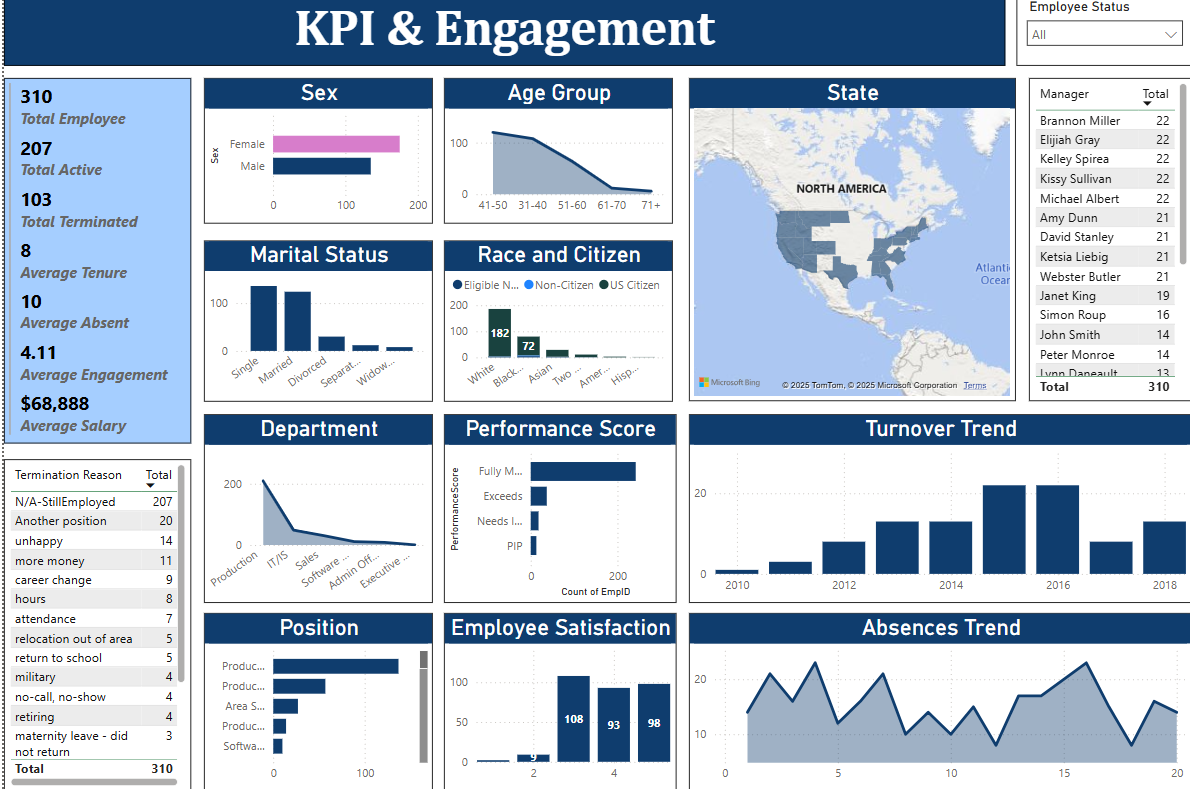

The dashboard page shown, as its layout file describes it:
{"tool":"powerbi","page":{"name":"KPI & Engagement","canvas":[1280,860],"ordinal":1},"visuals":[{"type":"textbox","box":[0,0,1078.3,78.3],"z":0},{"type":"areaChart","title":"Department","fields":{"Y":["HR_Data.EmpID"],"Category":["Department.Department_Name"]},"box":[215,453.3,246.7,203.3],"z":1000},{"type":"barChart","title":"Position","fields":{"Category":["Position.Positon Name"],"Y":["HR_Data.EmpID"]},"box":[215,668.3,246.7,191.7],"z":2000},{"type":"clusteredBarChart","title":"Performance Score","fields":{"Category":["HR_Data.PerformanceScore"],"Y":["HR_Data.EmpID"]},"box":[473.3,453.3,250,203.3],"z":3000},{"type":"areaChart","title":"Absences Trend","fields":{"Category":["HR_Data.Absences"],"Y":["HR_Data.EmpID"]},"box":[738.3,668.3,541.7,191.7],"z":4000},{"type":"columnChart","title":"Employee Satisfaction","fields":{"Y":["HR_Data.EmpID"],"Category":["HR_Data.EmpSatisfaction"]},"box":[473.3,668.3,250,191.7],"z":12000},{"type":"lineStackedColumnComboChart","title":"Turnover Trend","fields":{"Y":["HR_Data.EmpID"],"Category":["HR_Data.DateofTermination.Variation.Date Hierarchy.Year"]},"box":[738.3,453.3,541.7,203.3],"z":12001},{"type":"barChart","title":"Sex","fields":{"Category":["HR_Data.Sex"],"Y":["HR_Data.EmpID"]},"box":[215,91.7,246.7,156.7],"z":12002},{"type":"areaChart","title":"Age Group","fields":{"Category":["HR_Data.Age Group"],"Y":["HR_Data.EmpID"]},"box":[473.3,91.7,246.7,156.7],"z":12003},{"type":"columnChart","title":"Marital Status","fields":{"Category":["HR_Data.MaritalDesc"],"Y":["HR_Data.EmpID"]},"box":[215,266.7,246.7,173.3],"z":12004},{"type":"lineStackedColumnComboChart","title":"Race and Citizen","fields":{"Category":["HR_Data.RaceDesc"],"Y":["HR_Data.EmpID"],"Series":["HR_Data.CitizenDesc"]},"box":[473.3,266.7,246.7,173.3],"z":12005},{"type":"filledMap","title":"State","fields":{"Category":["HR_Data.State"]},"box":[738.3,91.7,351.7,348.3],"z":12006},{"type":"slicer","fields":{"Values":["HR_Data.EmploymentStatus"]},"box":[1090,0,190,78.6],"z":12007},{"type":"multiRowCard","fields":{"Values":["Measure.Number of Employee","Measure.TotalActive","Measure.TotalTerminated","Measure.AverageTenure","Measure.AverageAbsent","Measure.AverageEngagement","Measure.AverageSalary"]},"box":[0,91.7,201.7,393.3],"z":12008},{"type":"tableEx","fields":{"Values":["HR_Data.TermReason","HR_Data.EmpID"]},"box":[0,501.7,201.7,358.3],"z":12009},{"type":"tableEx","fields":{"Values":["HR_Data.Manager","HR_Data.EmpID"]},"box":[1103.3,91.7,176.7,348.3],"z":12010}]}

Visuals, with their boxes in screenshot pixels (x1, y1, x2, y2), scaled from the page's 1280x860 canvas onto the 1190x789 screenshot:
textbox: bbox(0, 0, 1002, 72)
"Department" areaChart: bbox(200, 416, 429, 602)
"Position" barChart: bbox(200, 613, 429, 788)
"Performance Score" clusteredBarChart: bbox(440, 416, 672, 602)
"Absences Trend" areaChart: bbox(686, 613, 1189, 788)
"Employee Satisfaction" columnChart: bbox(440, 613, 672, 788)
"Turnover Trend" lineStackedColumnComboChart: bbox(686, 416, 1189, 602)
"Sex" barChart: bbox(200, 84, 429, 228)
"Age Group" areaChart: bbox(440, 84, 669, 228)
"Marital Status" columnChart: bbox(200, 245, 429, 404)
"Race and Citizen" lineStackedColumnComboChart: bbox(440, 245, 669, 404)
"State" filledMap: bbox(686, 84, 1013, 404)
slicer - HR_Data.EmploymentStatus: bbox(1013, 0, 1189, 72)
multiRowCard - Measure.Number of Employee x Measure.TotalActive: bbox(0, 84, 188, 445)
tableEx - HR_Data.TermReason x HR_Data.EmpID: bbox(0, 460, 188, 788)
tableEx - HR_Data.Manager x HR_Data.EmpID: bbox(1026, 84, 1189, 404)
